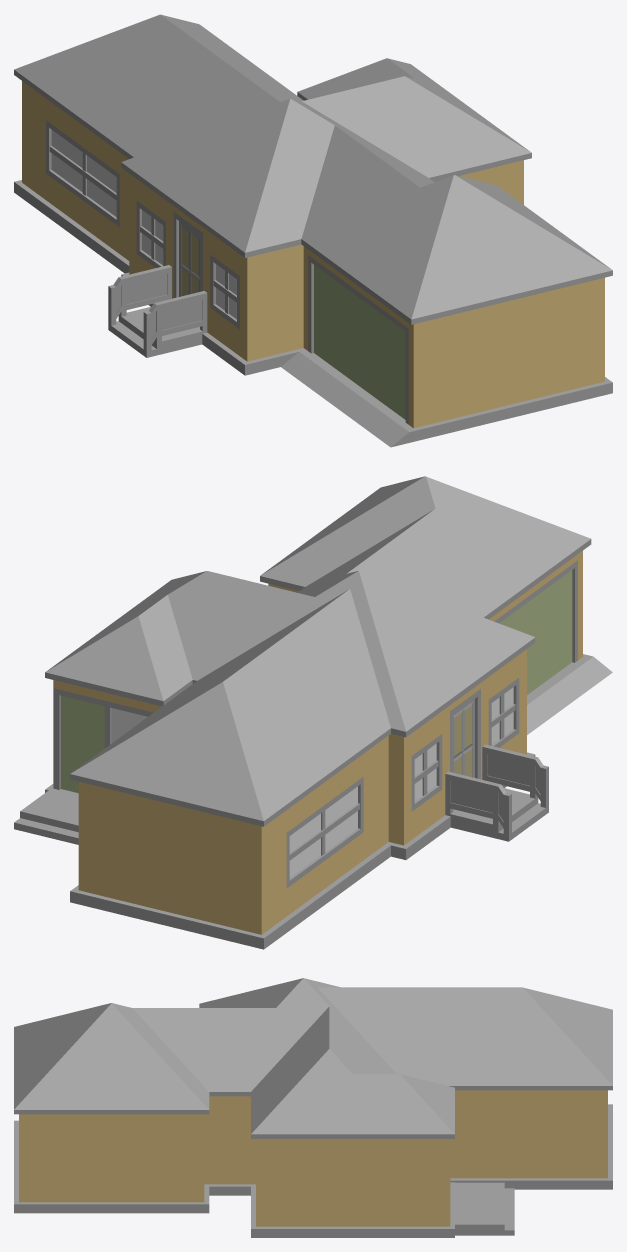
File: House #13.fbx
3 renders of one model, top to bottom at view 1: azimuth 30°, elevation 25°; view 2: azimuth 150°, elevation 25°; view 3: azimuth 270°, elevation 25°, orthographic. The views are drawn at different scales.
Parts seen in each view (by area): view 1: building_001; view 2: building_001; view 3: building_001.
Boxes of the visible parts, left/top/right/bottom form: building_001: left=14, top=14, right=612, bottom=447; building_001: left=14, top=476, right=612, bottom=949; building_001: left=14, top=978, right=612, bottom=1237.
Bounding box in the file's own units: 731 × 385 × 1206.
